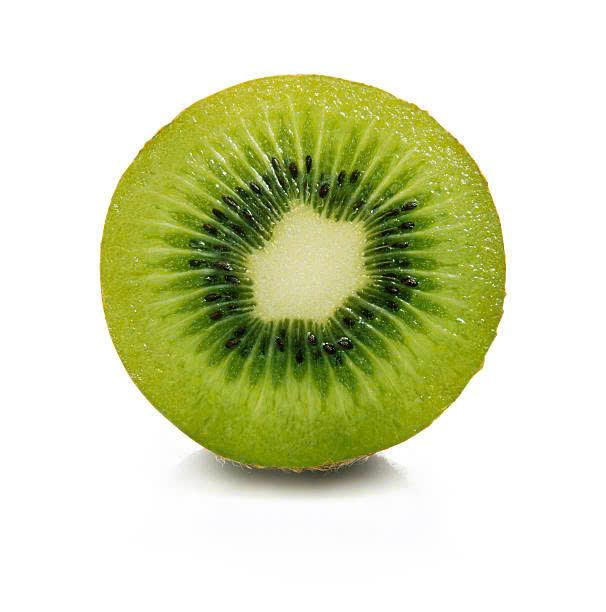kiwi: (123, 79, 514, 524)
